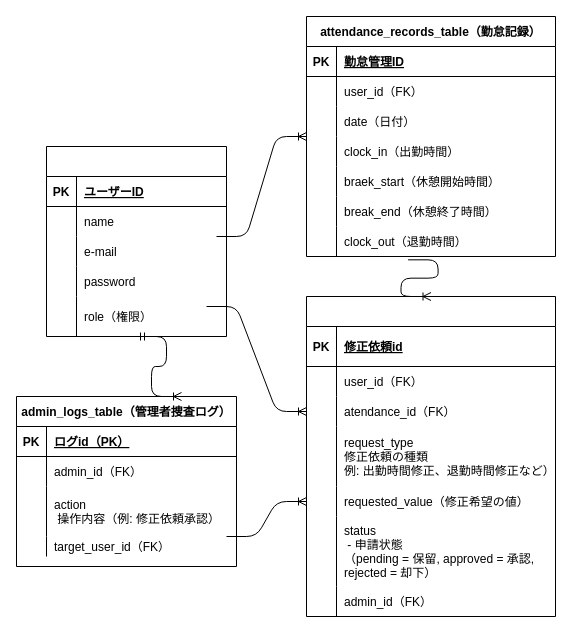
The diagram is 572 pixels wide and 633 high, and some of its shapes have lost their labels. The shapes that lost their labels are listed below. From the top down, each one's box as (x1, y1, x2, y2) in pixels, then its label:
(46, 146, 226, 336): users_table（ユーザー）
(306, 296, 556, 616): attendance_records_table（修正依頼）
